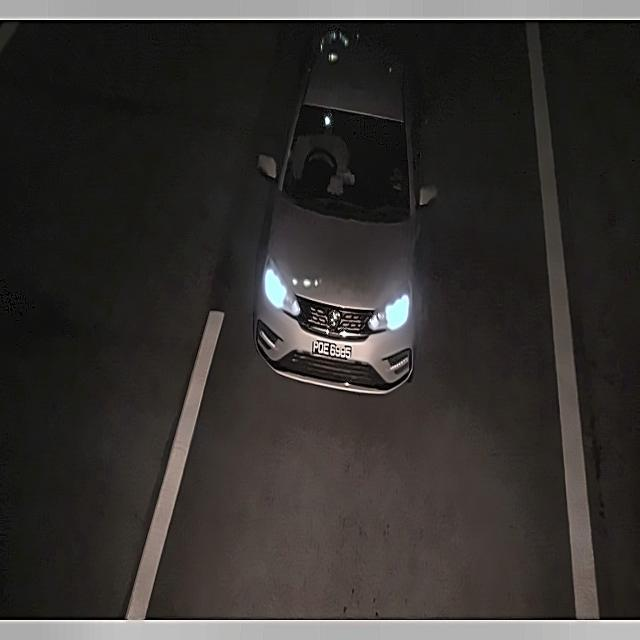car: (309, 331, 354, 368)
